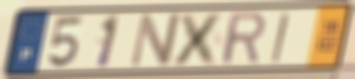1: (96, 13, 122, 70)
5: (46, 16, 85, 69)
I: (269, 10, 294, 65)
N: (127, 11, 184, 70)
R: (220, 10, 268, 67)
X: (169, 11, 229, 67)
